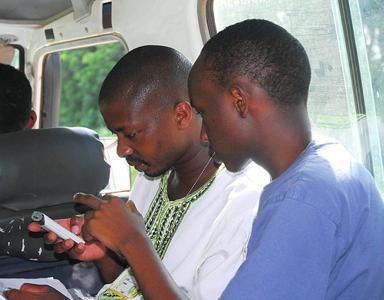person: (28, 45, 266, 300)
